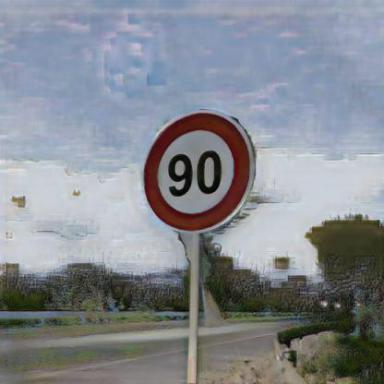Speed_limit_90: (146, 117, 250, 228)
